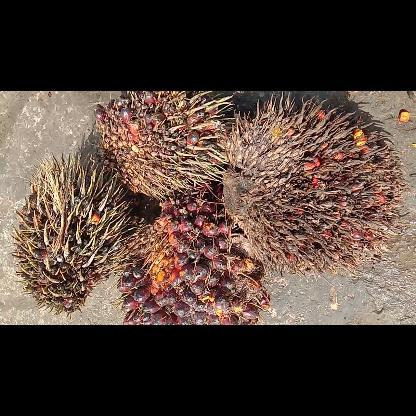Kurang masak: (9, 152, 133, 312)
TBS abnormal: (219, 90, 413, 276), (92, 91, 232, 199)
Terlalu masak: (119, 190, 271, 324)
